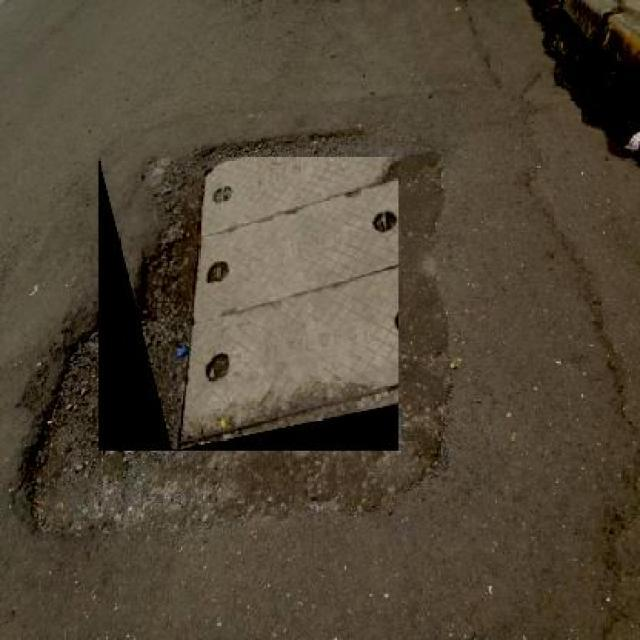Manhole: (99, 157, 398, 451)
Pothole: (0, 304, 105, 576)
